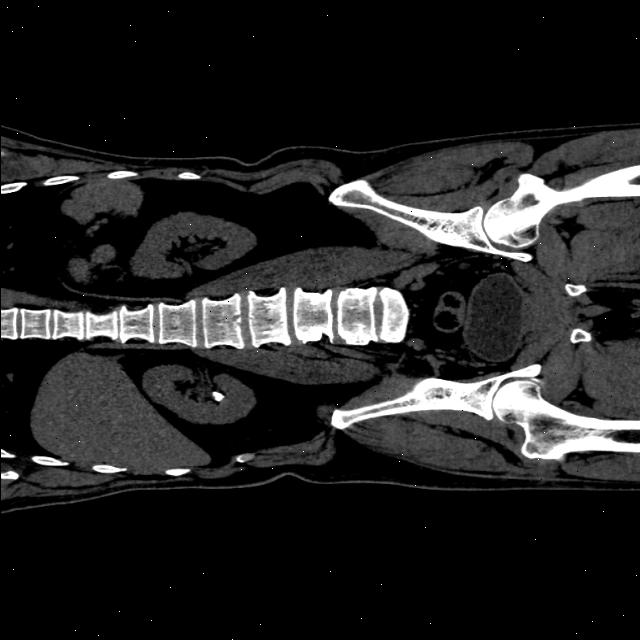kidneystone: (212, 390, 225, 401)
